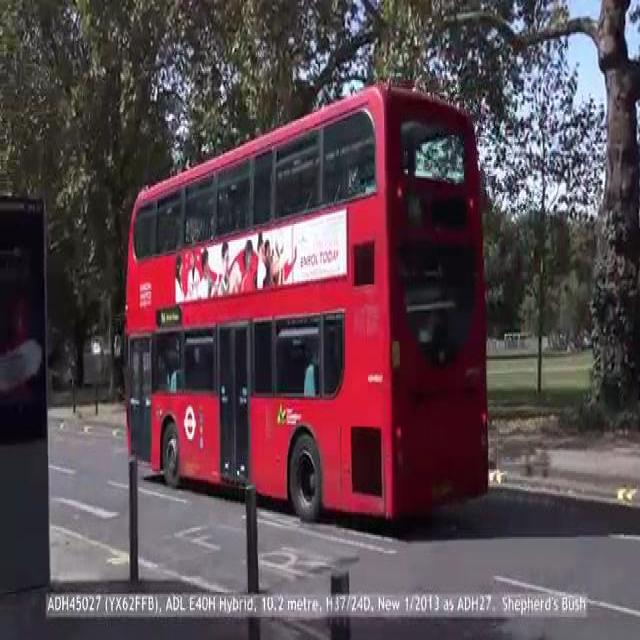motorcycle: (99, 66, 512, 537), (0, 178, 44, 533)
